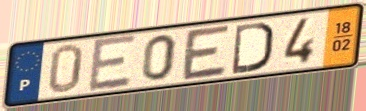0: (45, 42, 85, 96), (141, 32, 179, 84)
4: (281, 16, 318, 67)
D: (230, 20, 275, 76)
E: (86, 33, 139, 95), (180, 22, 233, 83)
